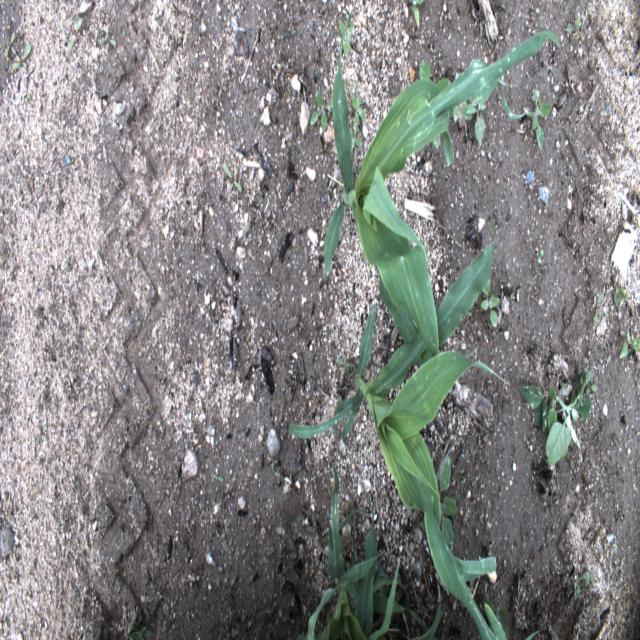crop: (286, 213, 511, 640), (323, 8, 560, 372), (295, 457, 408, 639), (405, 600, 445, 640), (524, 628, 540, 640)
weed: (517, 368, 599, 469), (419, 58, 453, 151), (522, 86, 553, 152), (437, 455, 458, 545), (479, 269, 500, 330), (465, 92, 487, 150), (482, 596, 511, 636), (309, 88, 333, 131), (221, 162, 243, 193), (573, 568, 594, 600), (124, 612, 148, 640), (619, 328, 639, 359), (339, 18, 354, 58), (350, 95, 366, 130), (12, 43, 31, 72), (67, 18, 83, 52), (97, 29, 118, 54), (606, 284, 628, 307), (452, 100, 472, 123), (335, 351, 351, 377), (412, 0, 425, 31), (347, 126, 362, 152), (4, 30, 17, 59), (593, 290, 604, 322), (34, 422, 48, 446), (565, 15, 582, 34), (211, 473, 224, 482), (538, 247, 544, 266), (460, 477, 467, 485)
